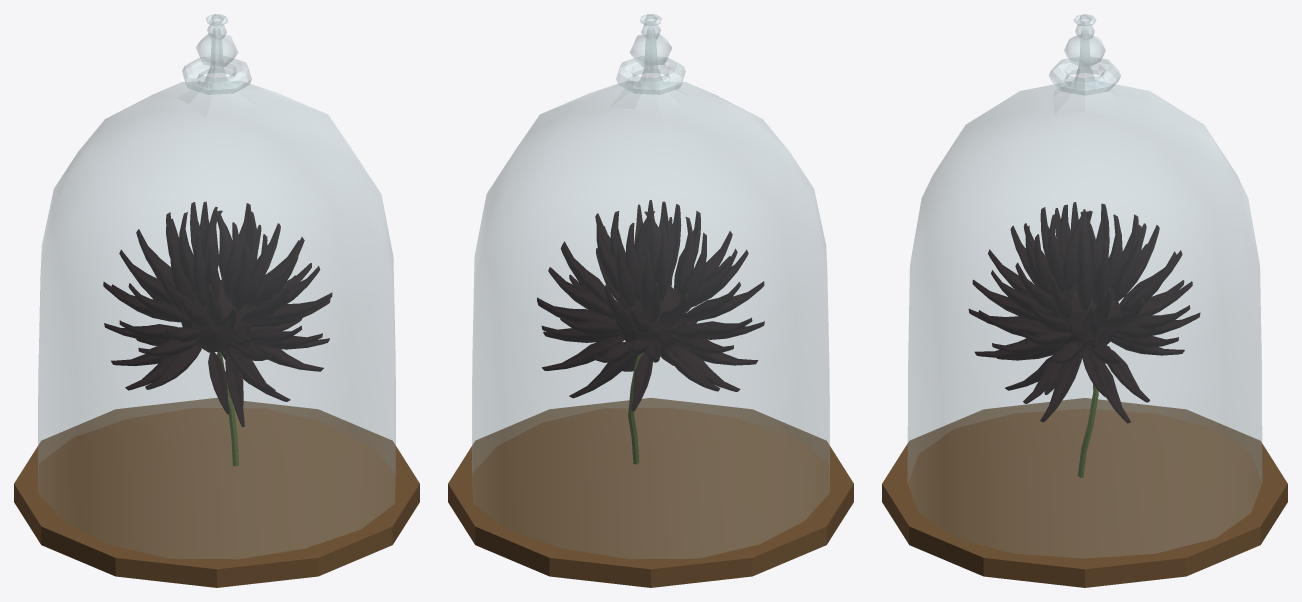
Rendered from black_flower.glb.
The picture shows the model from 3 angles, left to right: view 1: azimuth 30°, elevation 25°; view 2: azimuth 150°, elevation 25°; view 3: azimuth 270°, elevation 25°; orthographic projection.
Parts seen in each view (by area): view 1: case_main, case_base, Plane.008, case_deco_torus_bottom, case_deco_sphere_bottom; view 2: case_main, case_base, Plane.008, case_deco_torus_bottom, case_deco_sphere_bottom, flower_stem; view 3: case_main, case_base, Plane.008, case_deco_torus_bottom, case_deco_sphere_bottom, flower_stem.
Boxes of the visible parts, left/top/right/bottom form: case_main: left=38, top=26, right=395, bottom=558; case_base: left=14, top=398, right=419, bottom=587; Plane.008: left=103, top=201, right=332, bottom=426; case_deco_torus_bottom: left=182, top=56, right=251, bottom=94; case_deco_sphere_bottom: left=196, top=33, right=237, bottom=66; case_main: left=472, top=26, right=829, bottom=558; case_base: left=448, top=398, right=853, bottom=587; Plane.008: left=537, top=200, right=764, bottom=411; case_deco_torus_bottom: left=616, top=56, right=685, bottom=94; case_deco_sphere_bottom: left=630, top=33, right=671, bottom=66; flower_stem: left=628, top=352, right=644, bottom=464; case_main: left=908, top=26, right=1261, bottom=557; case_base: left=882, top=398, right=1287, bottom=587; Plane.008: left=968, top=202, right=1200, bottom=423; case_deco_torus_bottom: left=1049, top=57, right=1120, bottom=95; case_deco_sphere_bottom: left=1064, top=34, right=1105, bottom=67; flower_stem: left=1078, top=384, right=1098, bottom=477.
Size of the model in its own units: 10.79 by 14.32 by 10.79.
